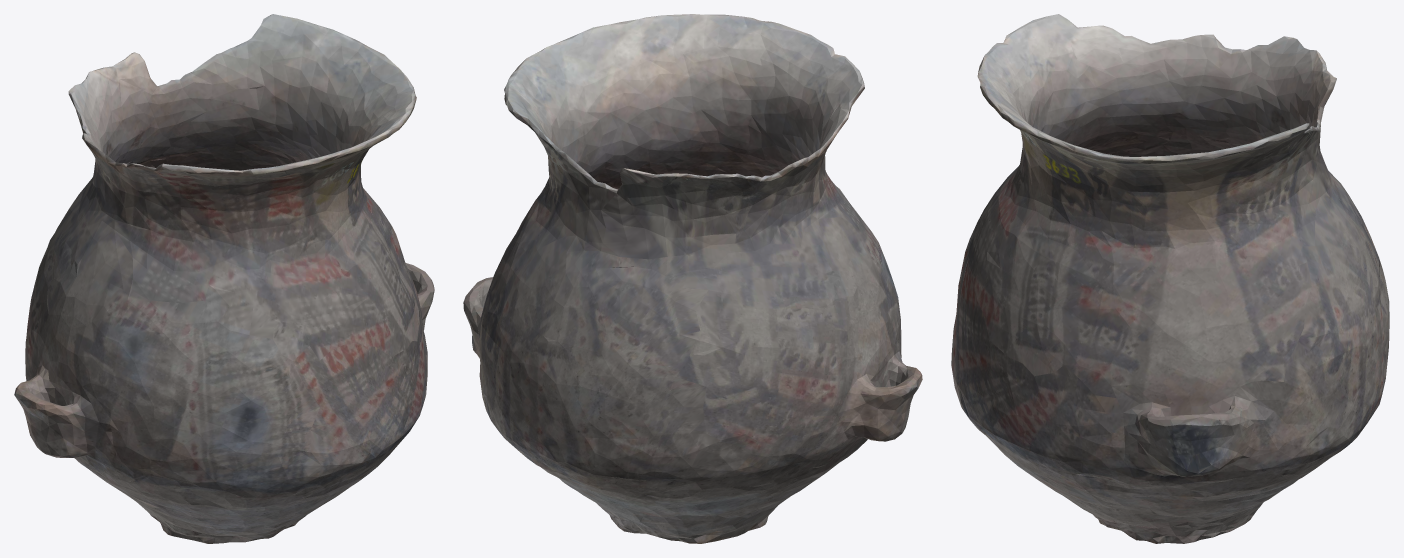
The picture shows the model from 3 angles, left to right: view 1: azimuth 30°, elevation 25°; view 2: azimuth 150°, elevation 25°; view 3: azimuth 270°, elevation 25°; orthographic projection. The views are drawn at different scales.
Visible parts, largest first — view 1: MA0919; view 2: MA0919; view 3: MA0919.
Boxes of the visible parts, <box> form: MA0919: <box>14,14,434,543</box>; MA0919: <box>463,14,922,543</box>; MA0919: <box>951,14,1389,543</box>.
Size of the model in its own units: 2.36 by 2.26 by 2.02.
1 material, 1 textured.
